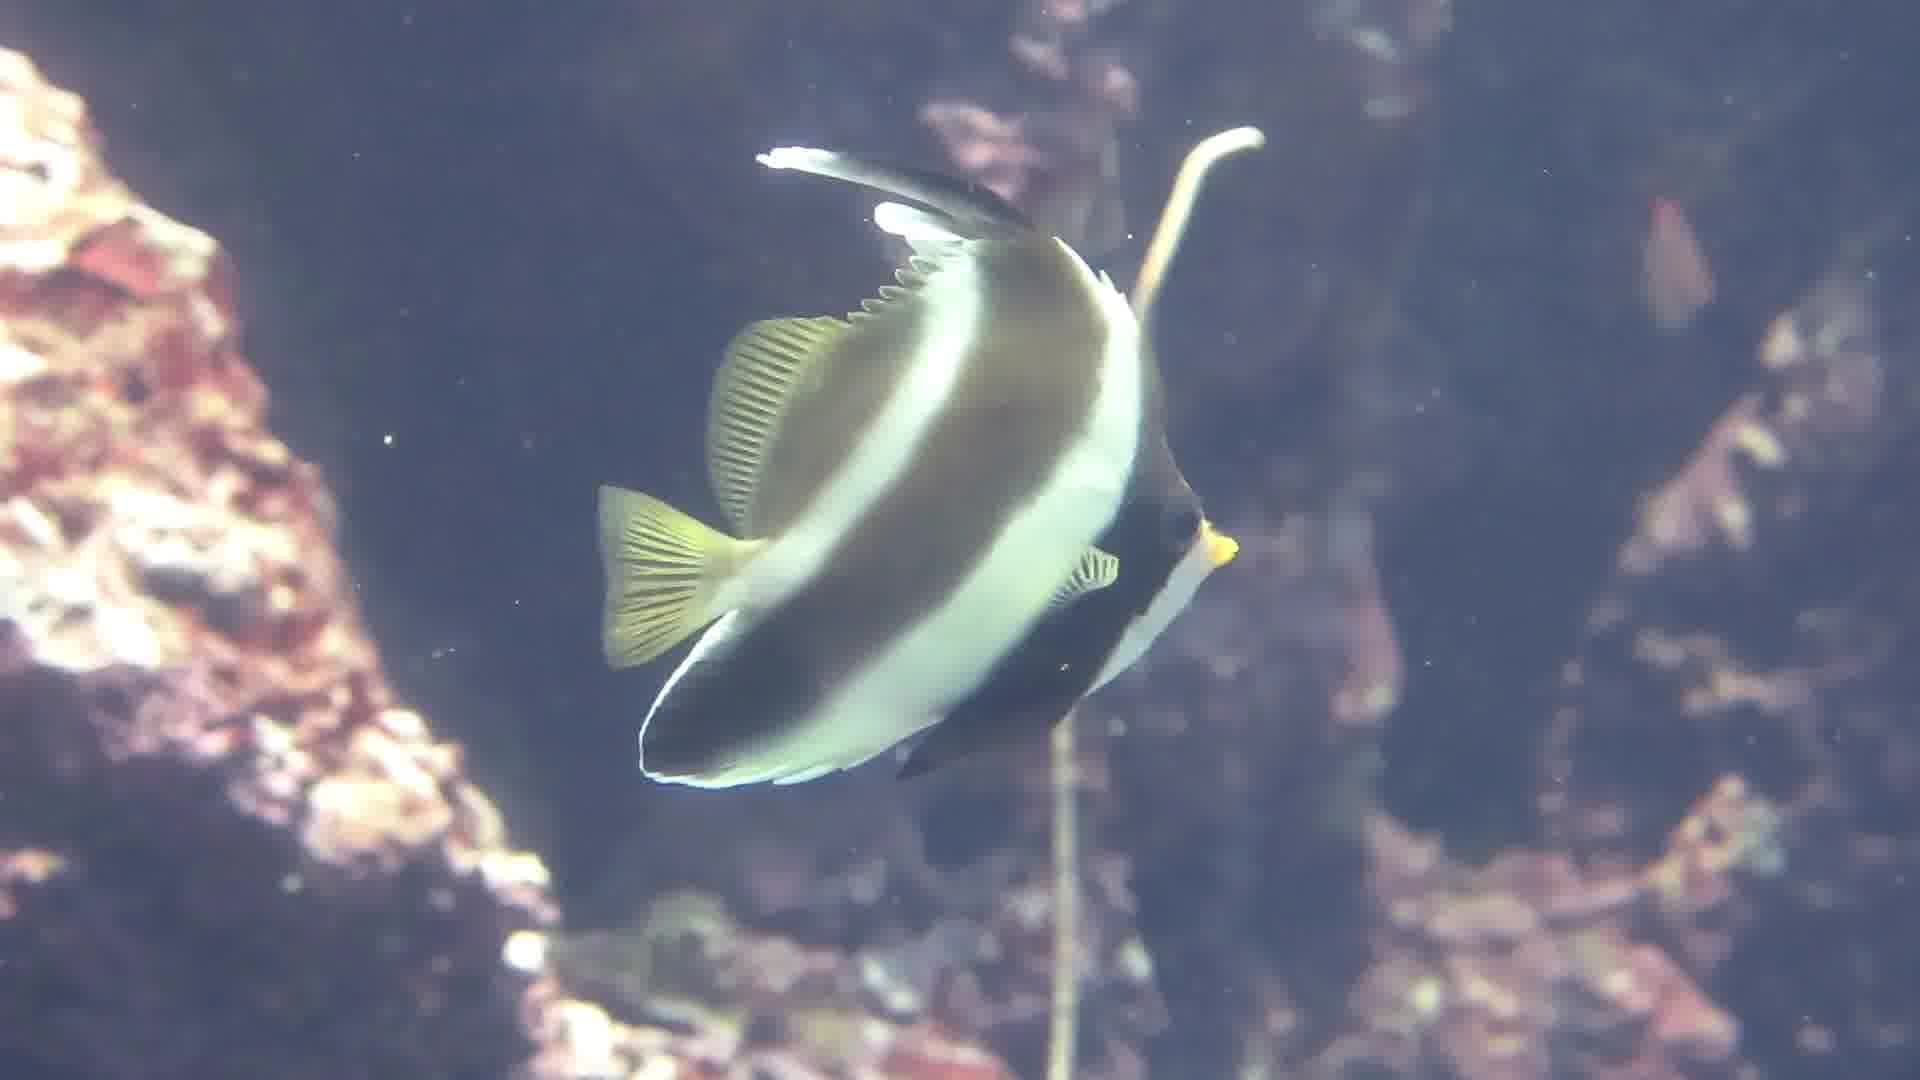Heniochus chrysostomus: (541, 94, 1295, 880)
